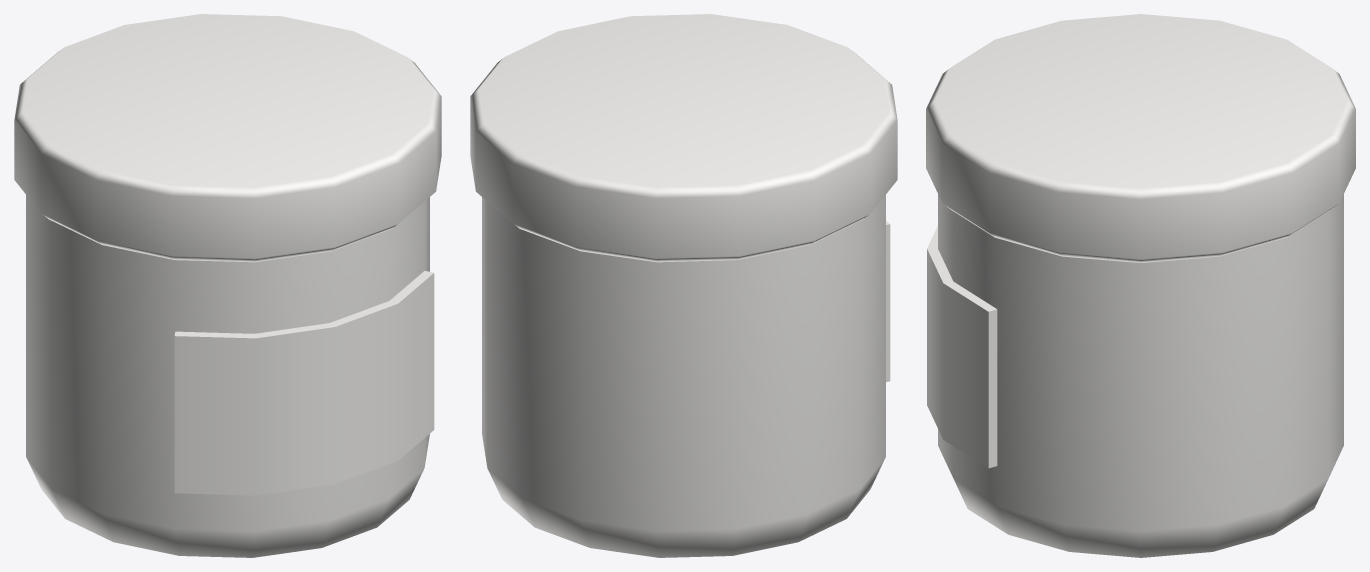
File: Bottle_2.glb
3 renders of one model, left to right at view 1: azimuth 30°, elevation 25°; view 2: azimuth 150°, elevation 25°; view 3: azimuth 270°, elevation 25°, orthographic.
Visible parts, largest first — view 1: Bottle_2; view 2: Bottle_2; view 3: Bottle_2.
Part boxes in pixels (box(x1,y1,x2,y2)): Bottle_2: box(14, 14, 441, 557); Bottle_2: box(470, 14, 897, 557); Bottle_2: box(926, 14, 1355, 557).
Bounding box in the file's own units: 0.1794 × 0.1802 × 0.1794.
2 materials, 2 textured.
